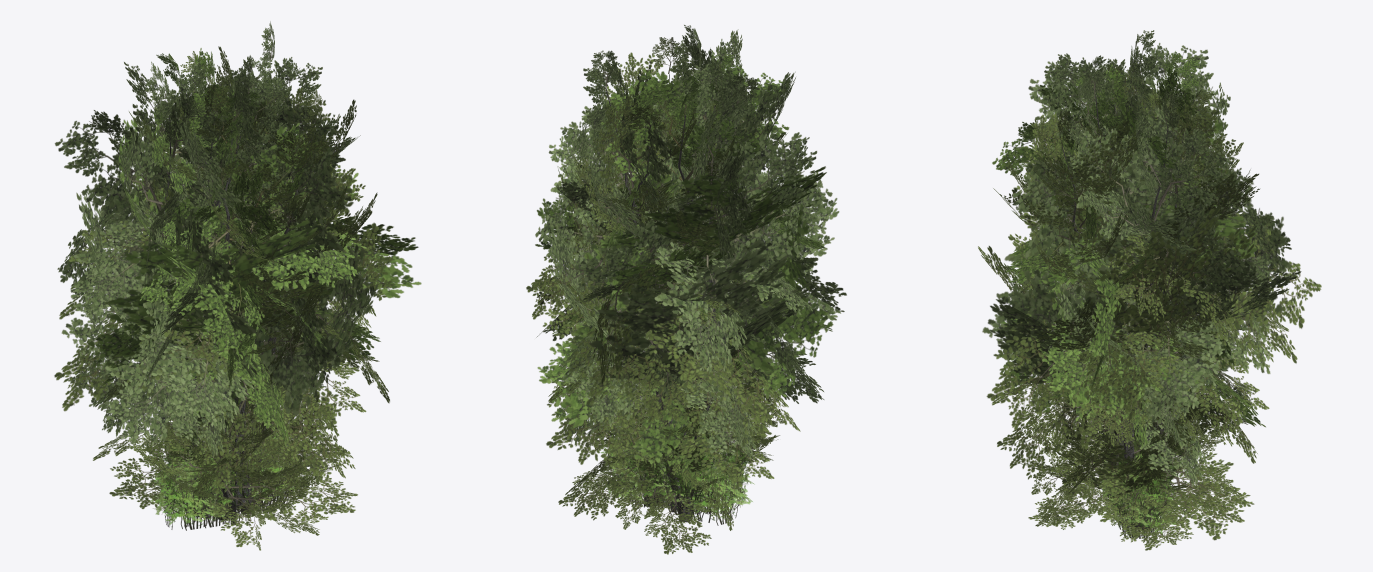
The model's file is plantes.glb.
3 renders of one model, left to right at view 1: azimuth 30°, elevation 25°; view 2: azimuth 150°, elevation 25°; view 3: azimuth 270°, elevation 25°, orthographic. The views are drawn at different scales.
Visible parts, largest first — view 1: Tree-02-2, Tree-03-3, Tree-01-1, Bush-05, Tree-01-4, Hedge-01; view 2: Tree-02-2, Tree-03-3, Tree-01-1, Bush-05, Tree-01-4, Hedge-01; view 3: Tree-02-2, Tree-01-1, Tree-03-3, Bush-05, Tree-01-4, Hedge-01.
Boxes of the visible parts, x1,y1,x2,y2 form: Tree-02-2: [55, 21, 377, 518]; Tree-03-3: [87, 48, 421, 506]; Tree-01-1: [54, 46, 393, 513]; Bush-05: [109, 379, 357, 550]; Tree-01-4: [93, 184, 347, 519]; Hedge-01: [150, 425, 305, 530]; Tree-02-2: [535, 25, 846, 522]; Tree-03-3: [535, 48, 833, 492]; Tree-01-1: [526, 37, 800, 506]; Bush-05: [558, 371, 783, 554]; Tree-01-4: [547, 192, 780, 509]; Hedge-01: [601, 426, 754, 525]; Tree-02-2: [982, 30, 1301, 501]; Tree-01-1: [978, 63, 1321, 529]; Tree-03-3: [992, 51, 1265, 497]; Bush-05: [1019, 390, 1254, 550]; Tree-01-4: [1030, 195, 1253, 501]; Hedge-01: [1101, 432, 1181, 538].
Size of the model in its own units: 6.67 by 7.99 by 6.61.
Materials: 9 (9 with a texture image).
